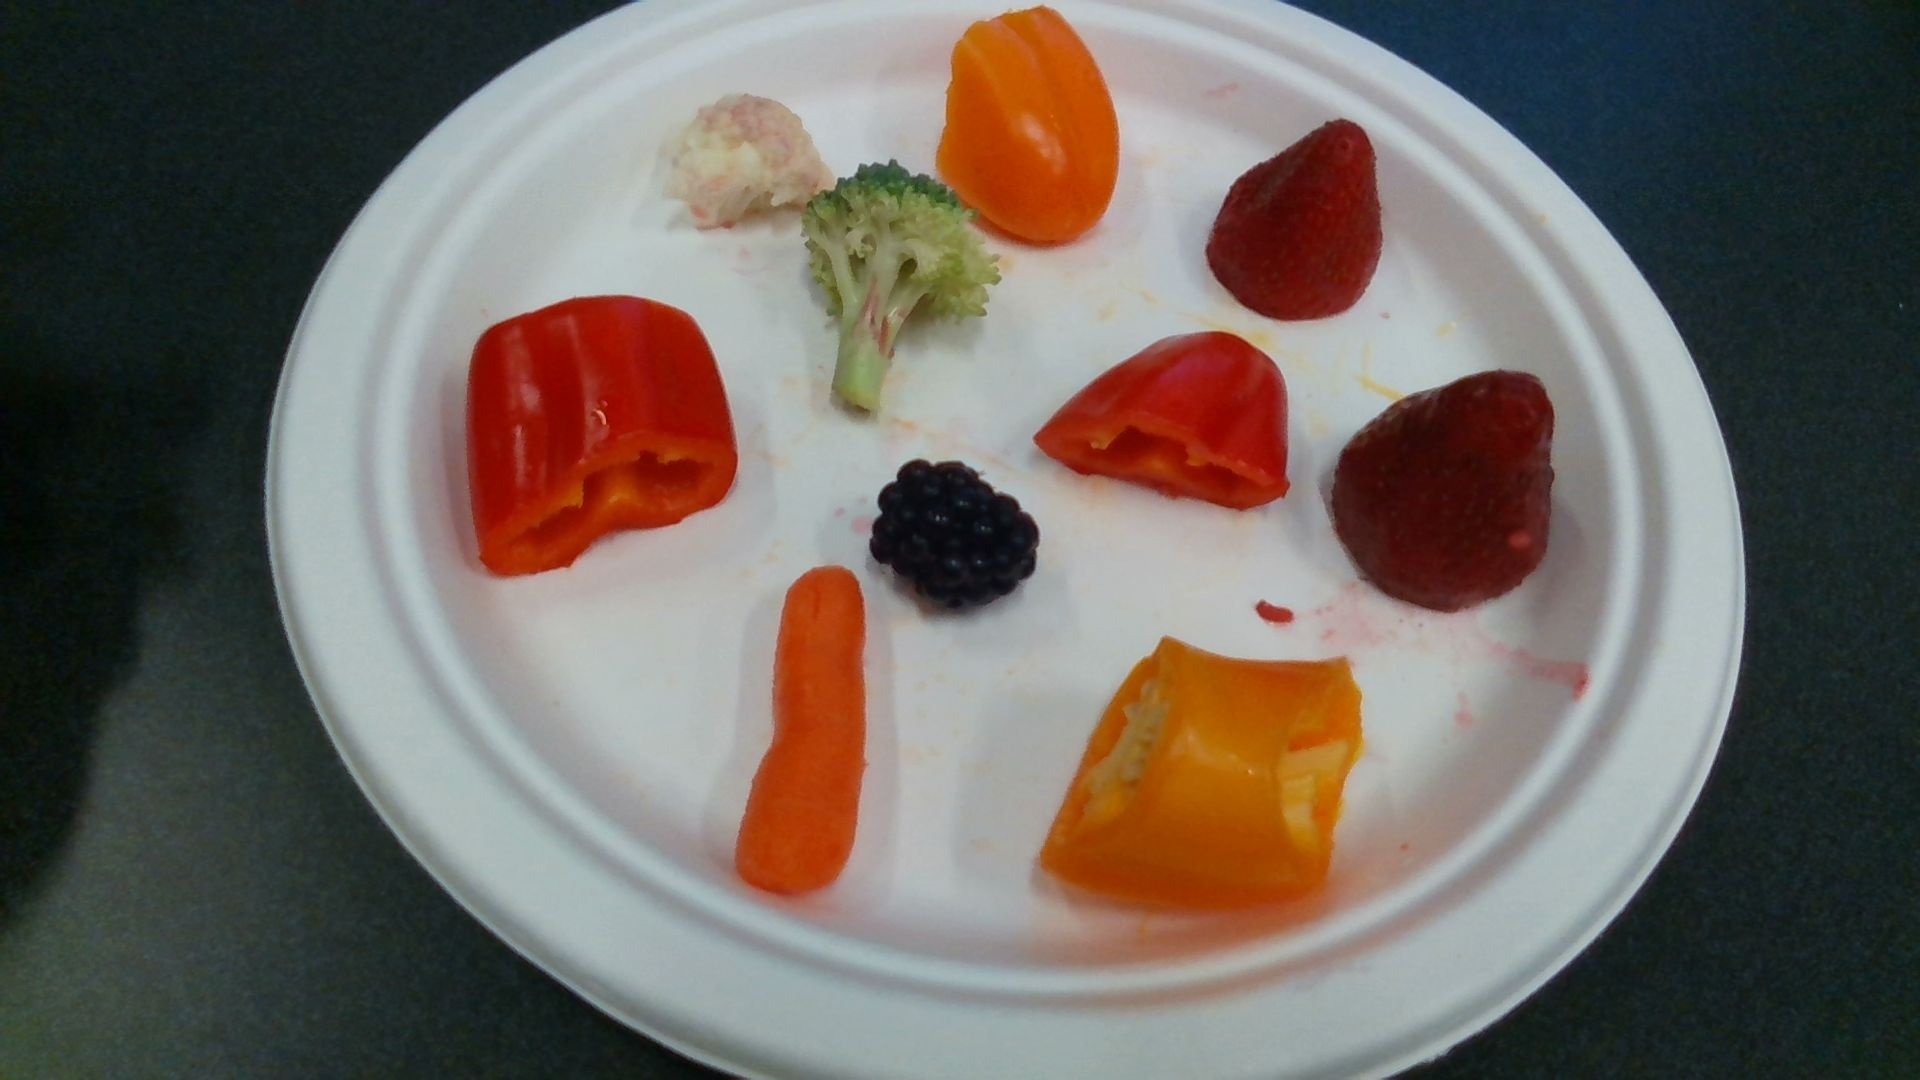bell_pepper: (1042, 640, 1360, 905), (469, 298, 737, 576), (1033, 334, 1290, 506), (939, 7, 1120, 245)
blackberry: (872, 462, 1039, 605)
broccoli: (804, 165, 997, 418)
carrot: (737, 570, 862, 895)
cauliflower: (662, 96, 819, 225)
strawberry: (1335, 373, 1553, 607), (1211, 123, 1385, 318)
